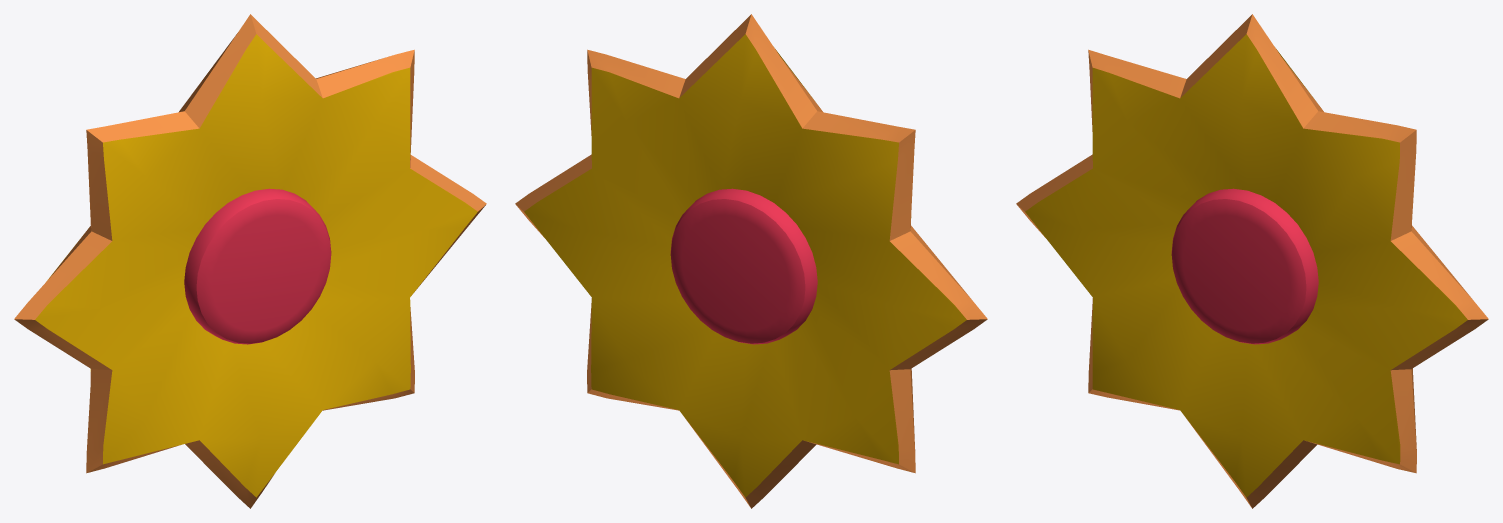
File: wheel_obstacle.fbx
3 renders of one model, left to right at view 1: azimuth 30°, elevation 25°; view 2: azimuth 150°, elevation 25°; view 3: azimuth 330°, elevation 25°, orthographic.
Parts seen in each view (by area): view 1: wheel_obstacle; view 2: wheel_obstacle; view 3: wheel_obstacle.
Part boxes in pixels (x1,y1,x2,y2): wheel_obstacle: [14, 14, 486, 508]; wheel_obstacle: [515, 14, 987, 508]; wheel_obstacle: [1016, 14, 1488, 508].
Size of the model in its own units: 1.66 by 1.66 by 0.1921.
